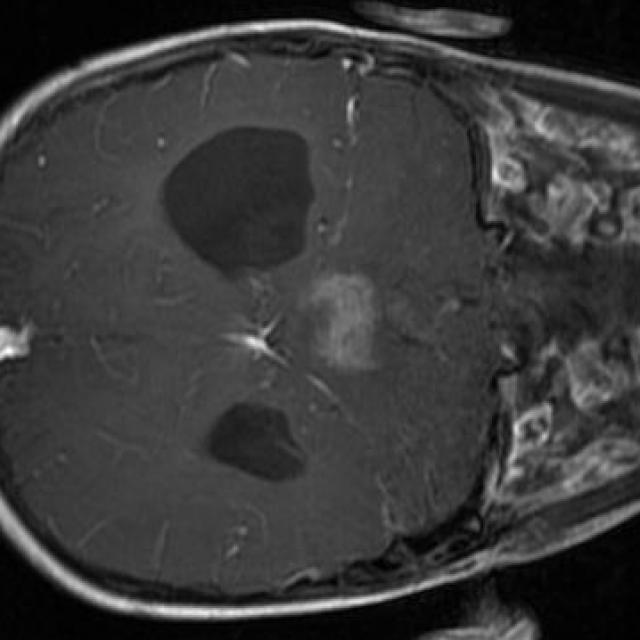glioma: (160, 127, 376, 369)
